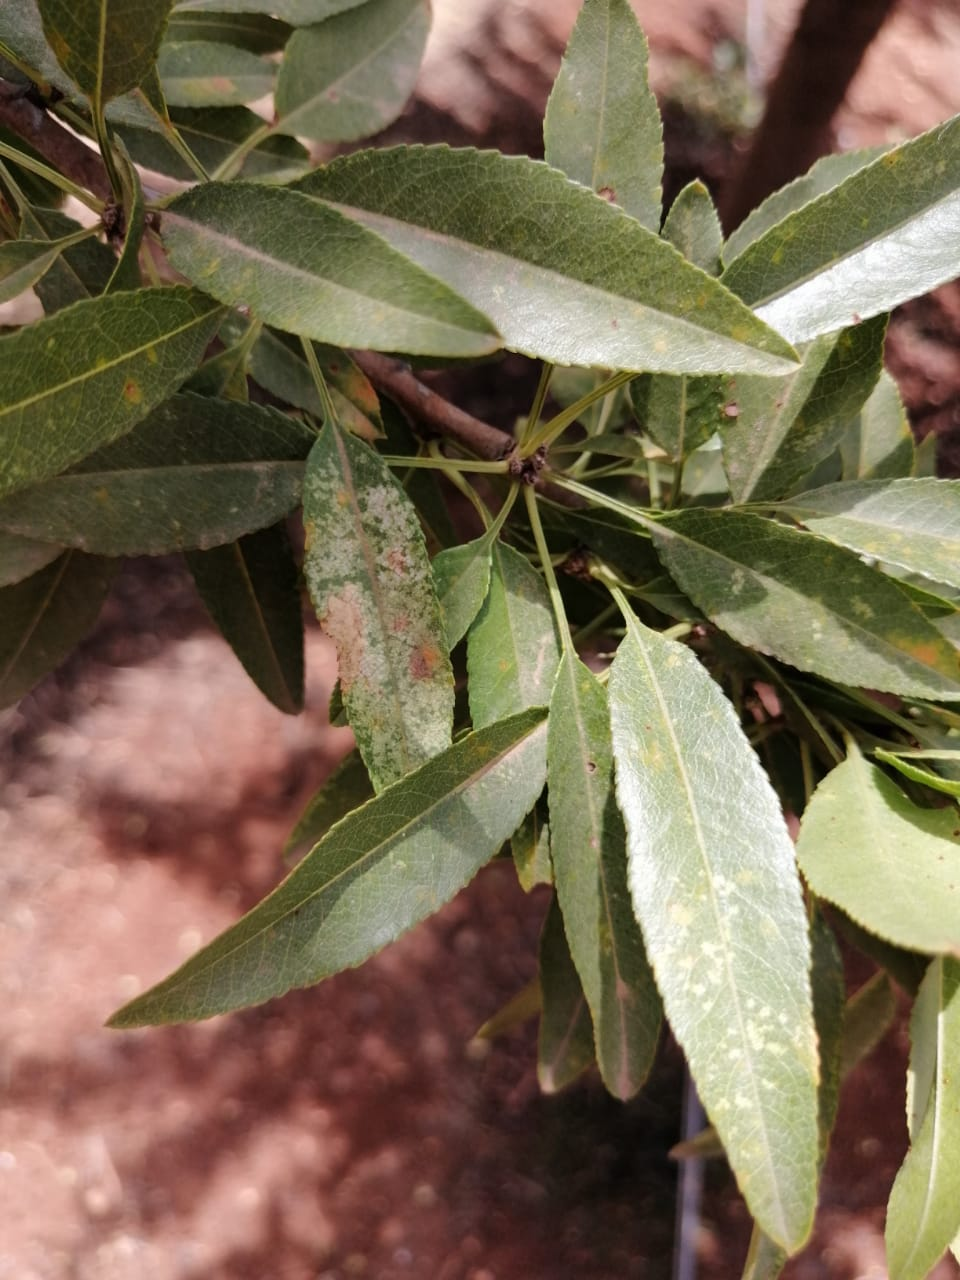faux tigre: (609, 623, 819, 1260), (302, 413, 453, 792)
